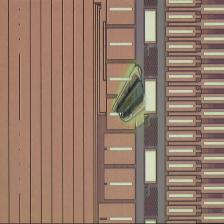PARTICLE: (109, 61, 157, 130)
